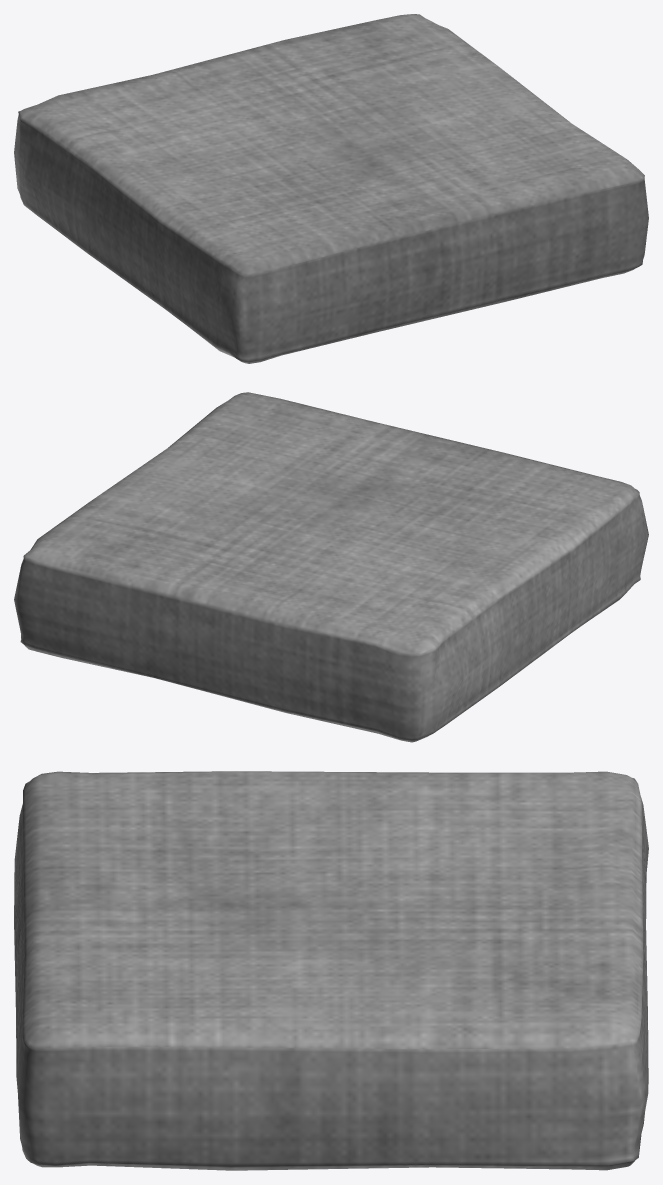
The model's file is Cushion 4.FBX.
3 views of the same model, one above another, from view 1: azimuth 30°, elevation 25°; view 2: azimuth 150°, elevation 25°; view 3: azimuth 270°, elevation 25° (orthographic). The views are drawn at different scales.
Visible parts, largest first — view 1: Cushion04; view 2: Cushion04; view 3: Cushion04.
Part boxes in pixels (box(x1,y1,x2,y2)): Cushion04: box(14, 14, 648, 363); Cushion04: box(14, 392, 648, 742); Cushion04: box(14, 771, 648, 1170).
Size of the model in its own units: 0.9836 by 0.2319 by 0.943.
Materials: 1 (1 with a texture image).
